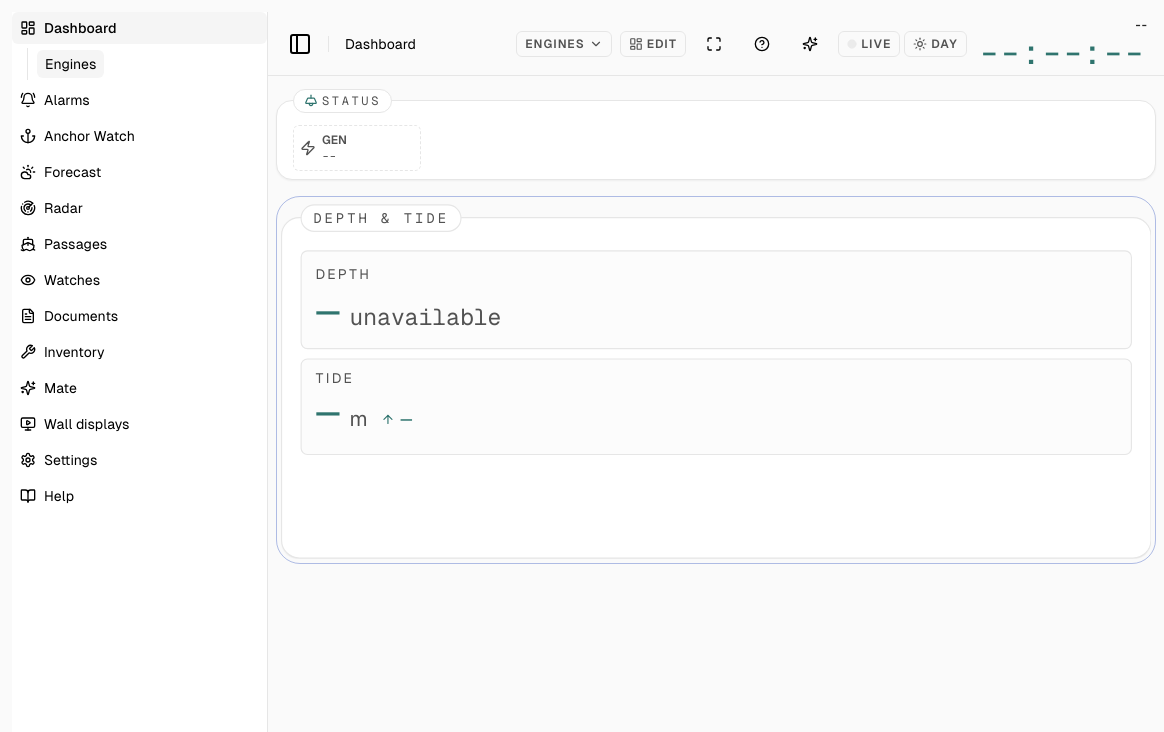
App at / (dashboard authoring) › toasts that the hero was cleared when assigning a page with a hero to a display
Click the button with aria-label "Enter edit mode" at (653,44), box x1=620 y1=30 x2=686 y2=56
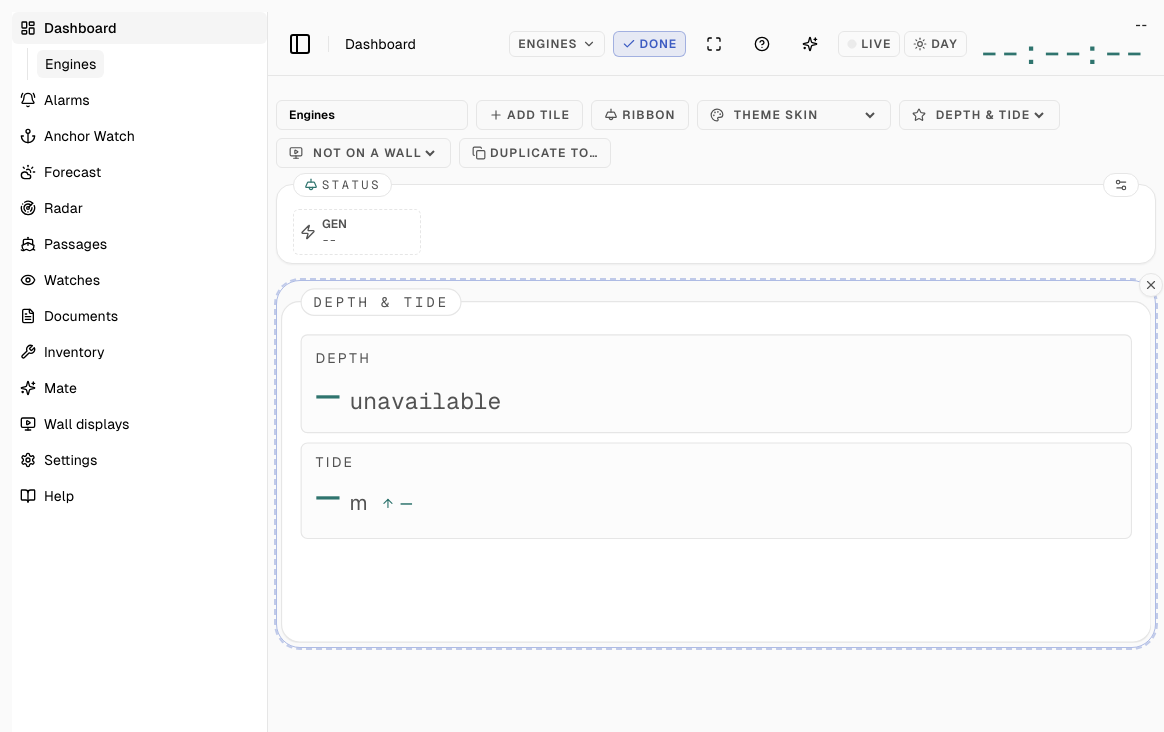
Select "Flybridge" in the dropdown named "Wall display for Engines" at (374,153), box x1=309 y1=145 x2=438 y2=161
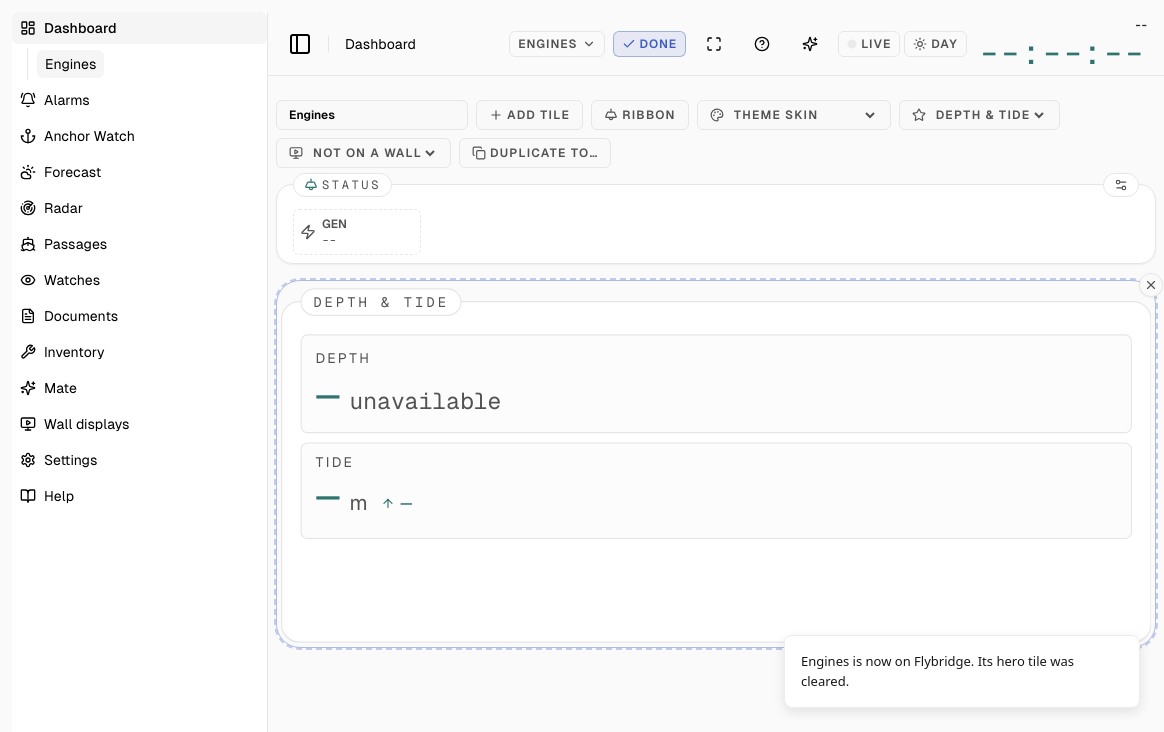
Expected: the text "Engines is now on Flybridge. Its hero tile was cleared." is shown, x1=801 y1=652 x2=1074 y2=690
